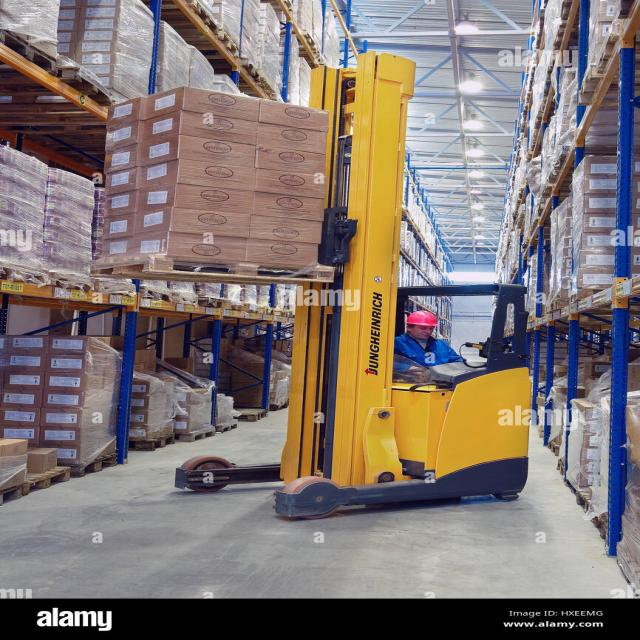Person: (396, 311, 463, 375)
